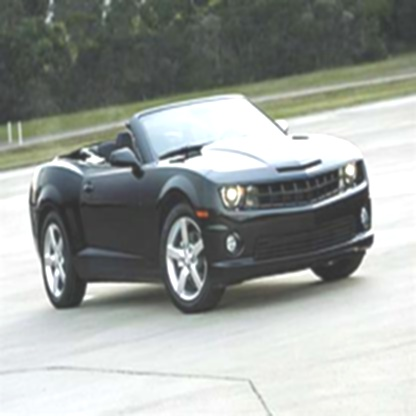Vehicle: (29, 92, 375, 315)
